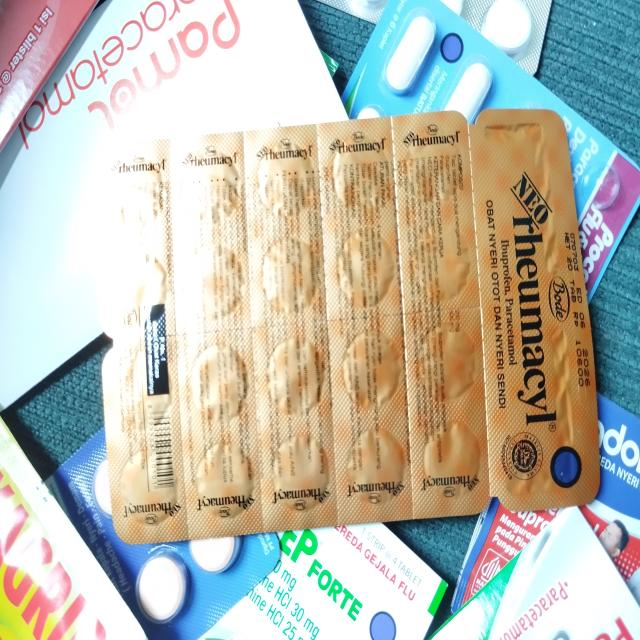B3: (95, 108, 600, 548), (0, 0, 354, 418), (194, 521, 450, 640)
